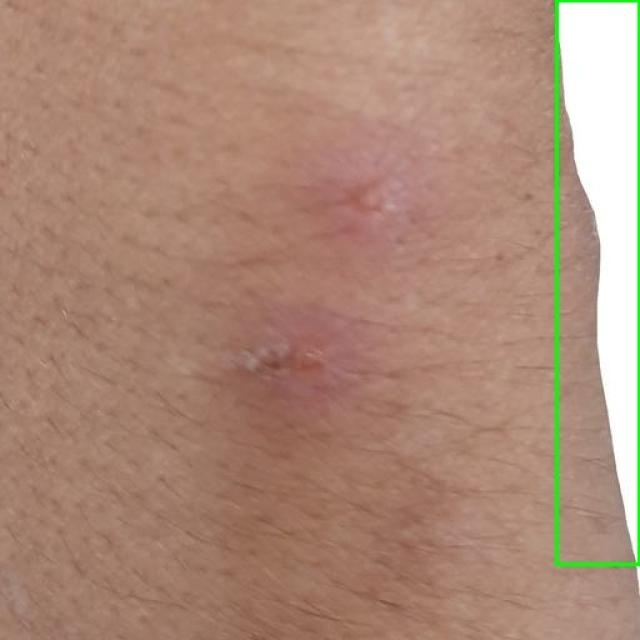Scabies: (556, 0, 639, 564)
